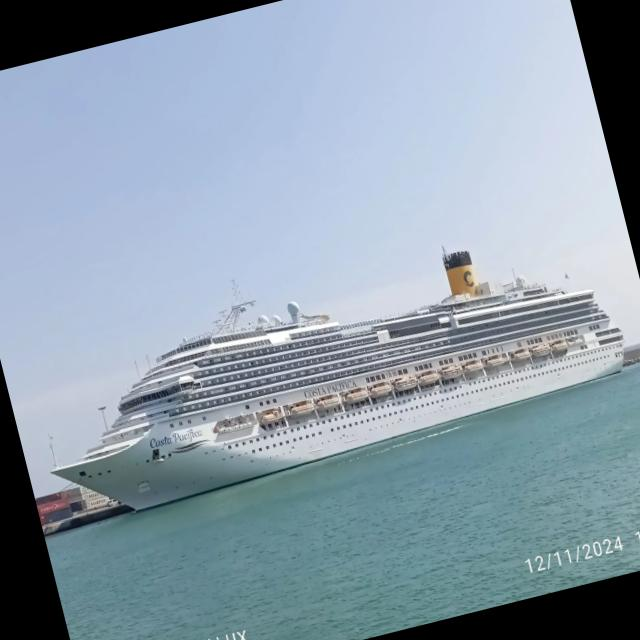Cruise: (50, 250, 624, 510)
